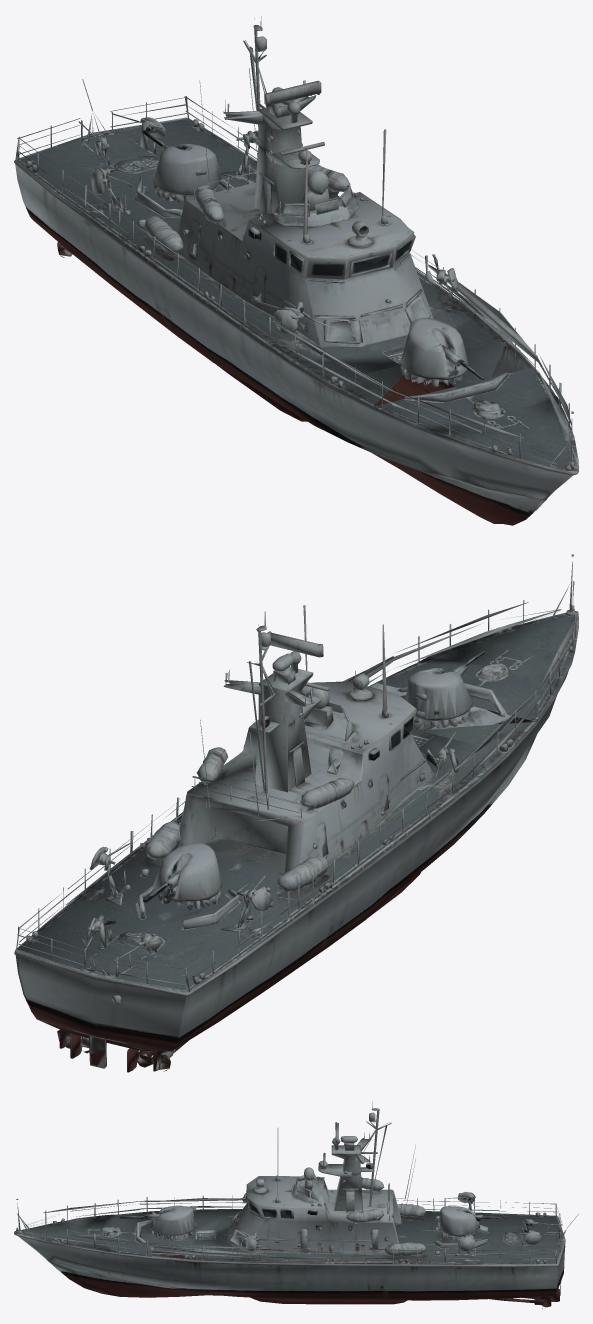
File: patrol_boat.glb
3 renders of one model, top to bottom at view 1: azimuth 30°, elevation 25°; view 2: azimuth 150°, elevation 25°; view 3: azimuth 270°, elevation 25°, orthographic. The views are drawn at different scales.
Parts seen in each view (by area): view 1: hull, P_turret; view 2: hull, P_turret; view 3: hull, P_turret.
Boxes of the visible parts, x1,y1,x2,y2 form: hull: (14,16,578,525); P_turret: (401,317,559,409); hull: (14,554,578,1072); P_turret: (406,624,559,718); hull: (14,1101,578,1309); P_turret: (119,1205,194,1233).
Size of the model in its own units: 4.52 by 7.66 by 20.
Materials: 3 (3 with a texture image).
